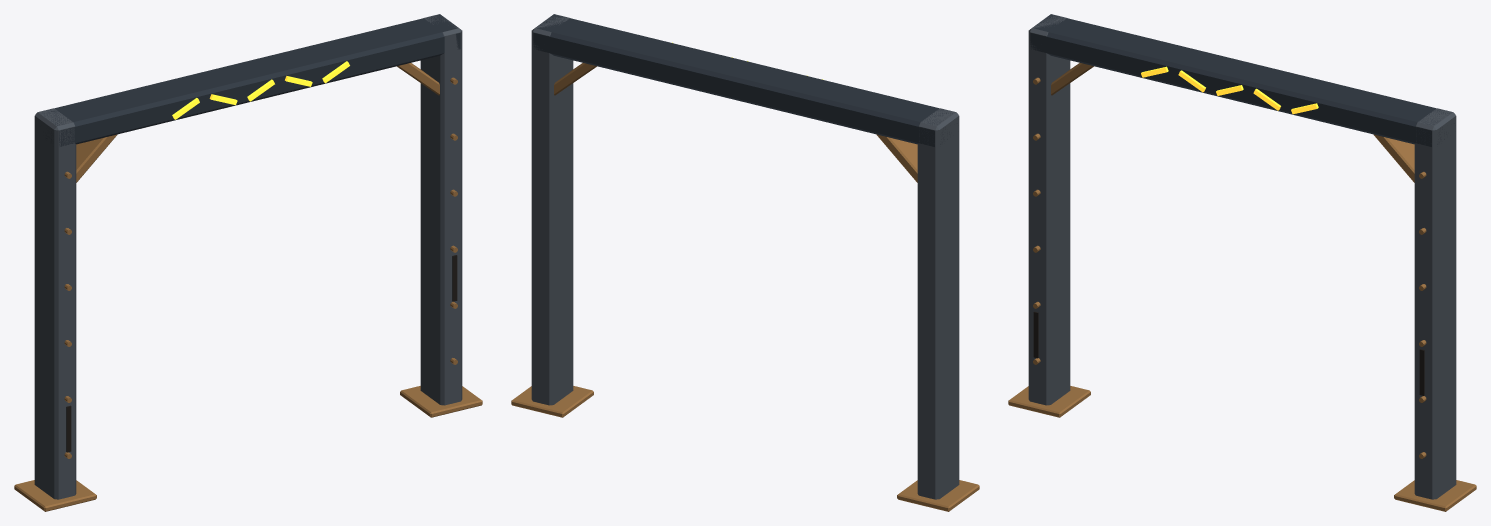
The model's file is runtime.glb.
The picture shows the model from 3 angles, left to right: view 1: azimuth 30°, elevation 25°; view 2: azimuth 150°, elevation 25°; view 3: azimuth 330°, elevation 25°; orthographic projection.
Parts seen in each view (by area): view 1: kinetic-tide-machine-frame-v01_plate_nocol, kinetic-tide-machine-frame-v01_steel_nocol, kinetic-tide-machine-frame-v01_bronze_nocol, kinetic-tide-machine-frame-v01_warningorange_nocol, kinetic-tide-machine-frame-v01_weardark_nocol; view 2: kinetic-tide-machine-frame-v01_plate_nocol, kinetic-tide-machine-frame-v01_steel_nocol, kinetic-tide-machine-frame-v01_bronze_nocol; view 3: kinetic-tide-machine-frame-v01_plate_nocol, kinetic-tide-machine-frame-v01_steel_nocol, kinetic-tide-machine-frame-v01_bronze_nocol, kinetic-tide-machine-frame-v01_warningorange_nocol, kinetic-tide-machine-frame-v01_weardark_nocol.
Boxes of the visible parts, x1=… form: kinetic-tide-machine-frame-v01_plate_nocol: x1=34, y1=14, x2=462, y2=499; kinetic-tide-machine-frame-v01_steel_nocol: x1=42, y1=14, x2=460, y2=146; kinetic-tide-machine-frame-v01_bronze_nocol: x1=14, y1=63, x2=482, y2=511; kinetic-tide-machine-frame-v01_warningorange_nocol: x1=172, y1=61, x2=349, y2=119; kinetic-tide-machine-frame-v01_weardark_nocol: x1=66, y1=255, x2=457, y2=452; kinetic-tide-machine-frame-v01_plate_nocol: x1=531, y1=14, x2=959, y2=499; kinetic-tide-machine-frame-v01_steel_nocol: x1=533, y1=14, x2=957, y2=146; kinetic-tide-machine-frame-v01_bronze_nocol: x1=511, y1=63, x2=979, y2=511; kinetic-tide-machine-frame-v01_plate_nocol: x1=1028, y1=14, x2=1456, y2=499; kinetic-tide-machine-frame-v01_steel_nocol: x1=1030, y1=14, x2=1454, y2=146; kinetic-tide-machine-frame-v01_bronze_nocol: x1=1008, y1=63, x2=1476, y2=511; kinetic-tide-machine-frame-v01_warningorange_nocol: x1=1141, y1=66, x2=1318, y2=114; kinetic-tide-machine-frame-v01_weardark_nocol: x1=1033, y1=311, x2=1424, y2=395.
Size of the model in its own units: 11.18 by 9.2 by 1.38.
